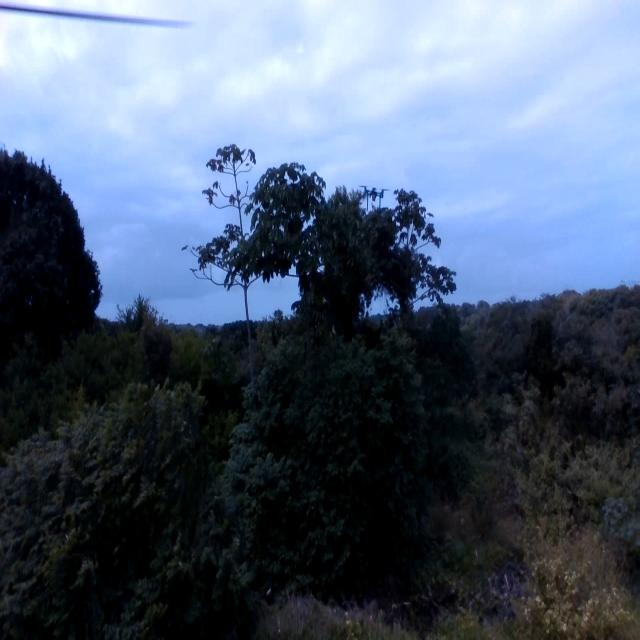-uav-: (355, 168, 393, 222)
